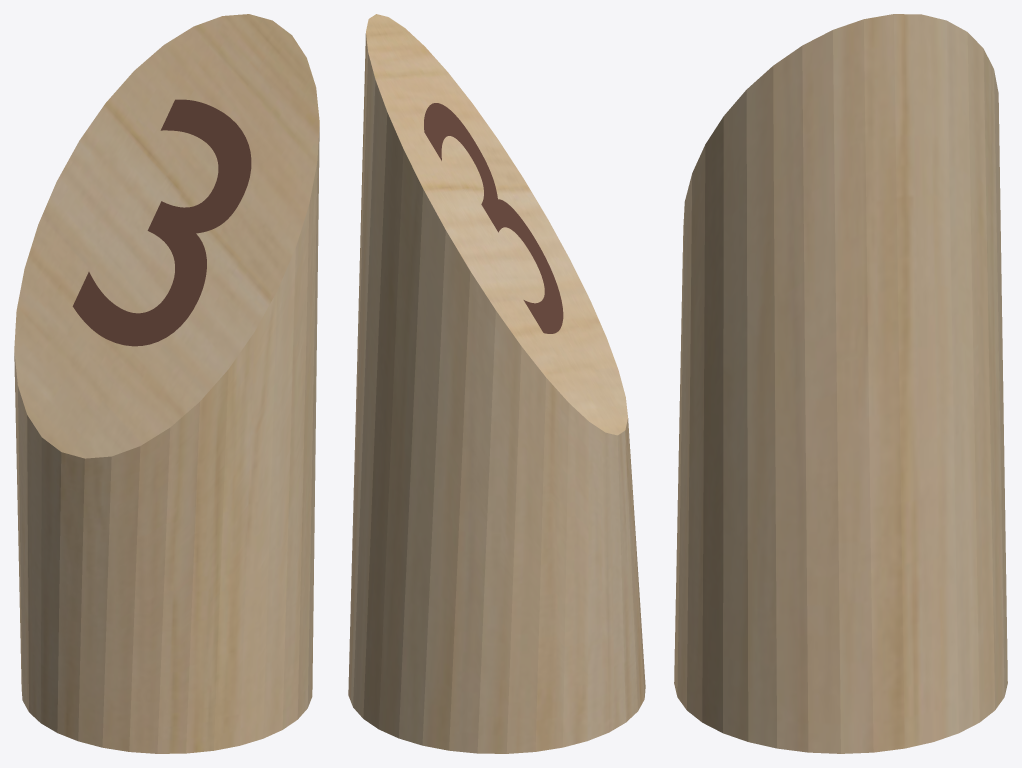
File: pin3.glb
The picture shows the model from 3 angles, left to right: view 1: azimuth 30°, elevation 25°; view 2: azimuth 150°, elevation 25°; view 3: azimuth 270°, elevation 25°; orthographic projection. The views are drawn at different scales.
Parts seen in each view (by area): view 1: 円柱.002; view 2: 円柱.002; view 3: 円柱.002.
Part boxes in pixels (left/top/right/bottom): 円柱.002: left=14, top=14, right=319, bottom=753; 円柱.002: left=348, top=14, right=645, bottom=753; 円柱.002: left=674, top=14, right=1007, bottom=753.
Bounding box in the file's own units: 1.16 × 2.79 × 1.16.
Materials: 2 (1 with a texture image).
